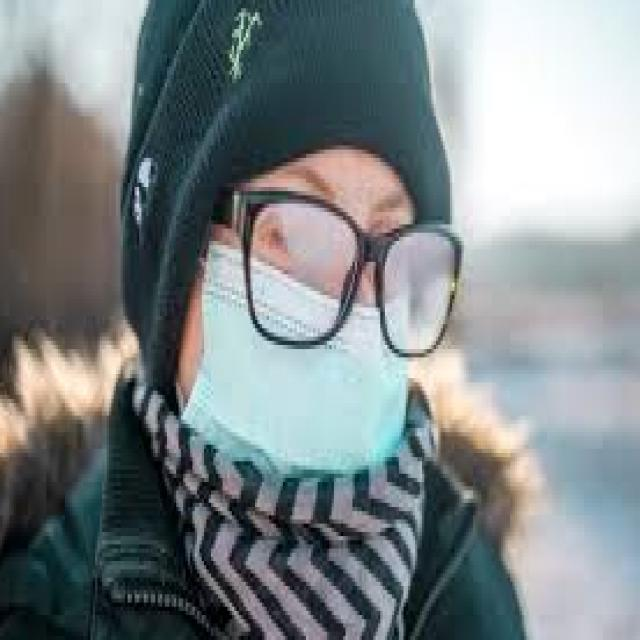Glasses: (225, 166, 471, 366)
